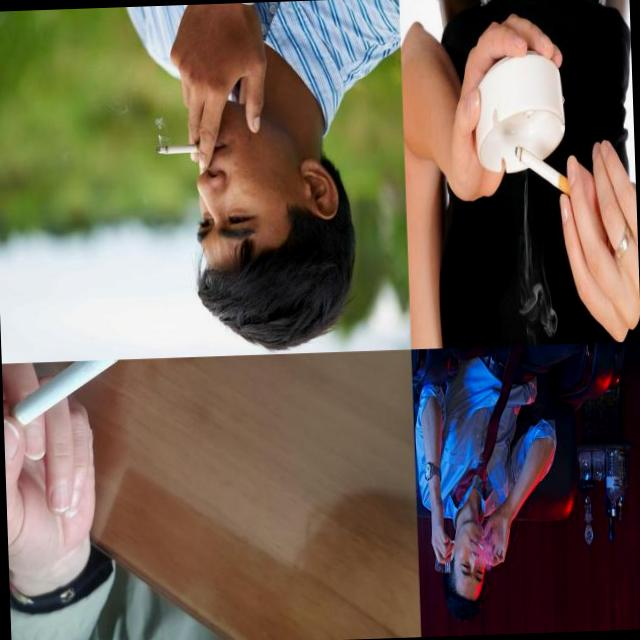smoke: (2, 359, 124, 452), (513, 137, 573, 207), (154, 141, 212, 154), (476, 542, 486, 556)
